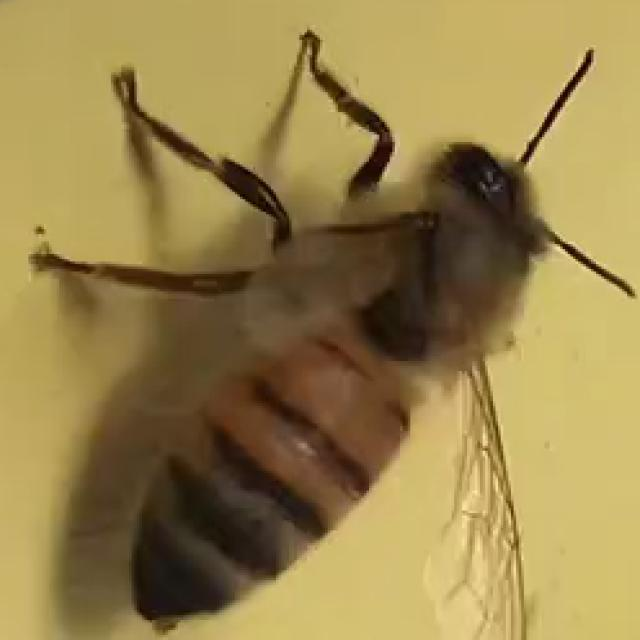honeybee: (92, 40, 562, 640)
